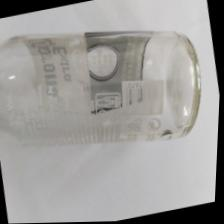glass: (0, 0, 218, 222)
